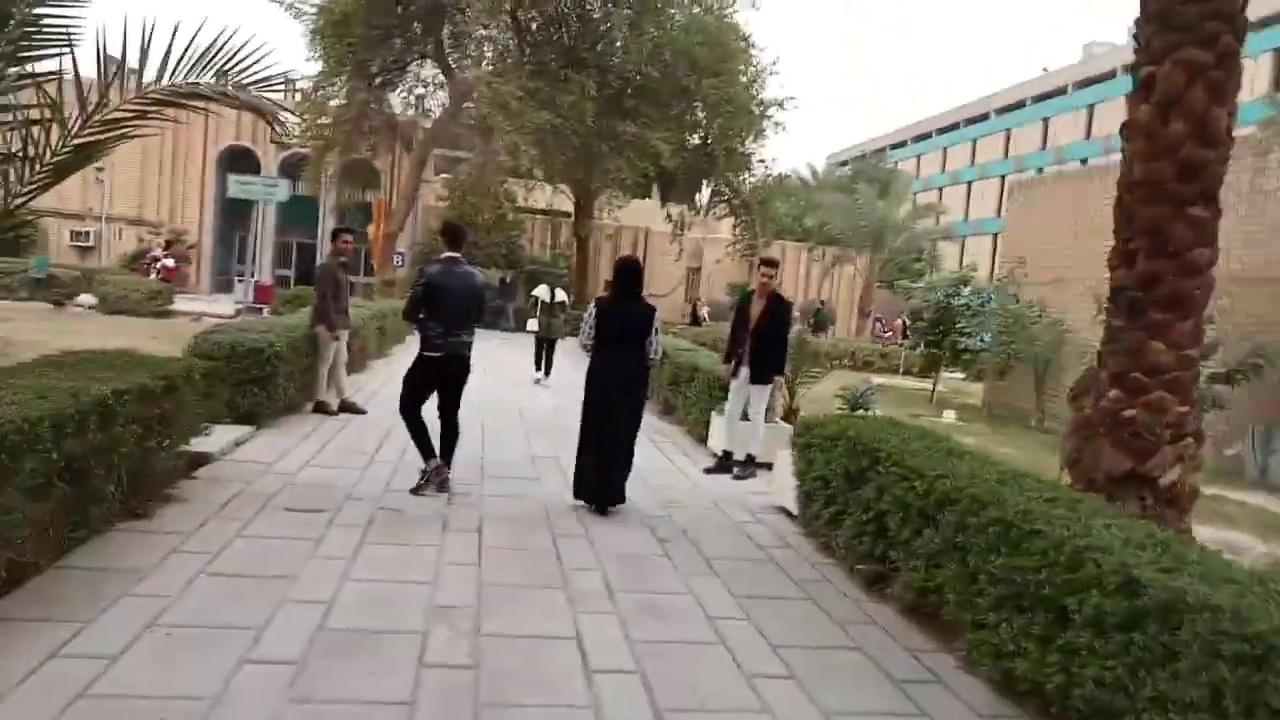person: (398, 219, 486, 496), (572, 254, 661, 515), (702, 255, 793, 479), (309, 225, 368, 416), (526, 281, 569, 383), (497, 270, 518, 332), (808, 299, 830, 339), (871, 313, 893, 346), (891, 310, 910, 341), (689, 296, 702, 326)
tree: (286, 0, 792, 316), (1057, 0, 1251, 536), (0, 0, 296, 284), (473, 0, 692, 312), (288, 0, 507, 297), (753, 150, 947, 338), (907, 264, 1068, 429), (751, 159, 857, 328), (905, 277, 992, 403), (1013, 300, 1068, 429)
